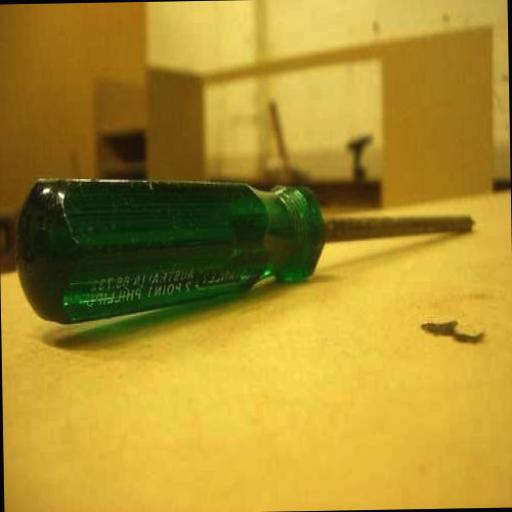screwdriver: (12, 169, 478, 324)
